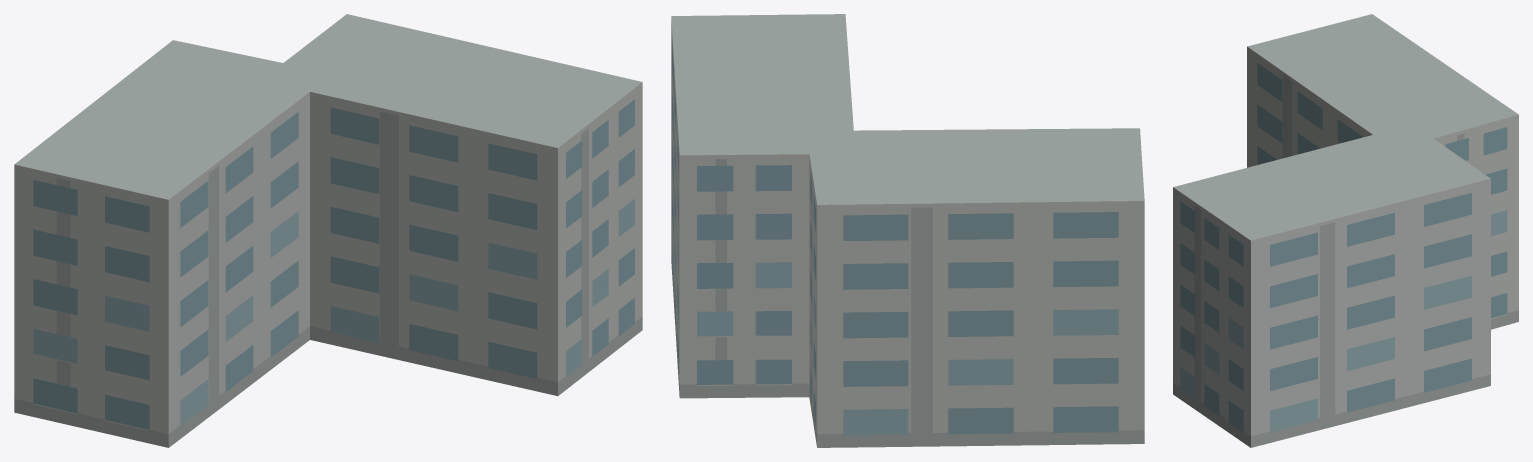
The model's file is survey-upis-32695802.glb.
3 views of the same model, side by side, from view 1: azimuth 30°, elevation 25°; view 2: azimuth 150°, elevation 25°; view 3: azimuth 270°, elevation 25° (orthographic). The views are drawn at different scales.
Parts seen in each view (by area): view 1: survey-upis-32695802.tmp; view 2: survey-upis-32695802.tmp; view 3: survey-upis-32695802.tmp.
Boxes of the visible parts, bbox=[...] form: survey-upis-32695802.tmp: bbox=[14, 14, 642, 447]; survey-upis-32695802.tmp: bbox=[671, 14, 1144, 447]; survey-upis-32695802.tmp: bbox=[1173, 14, 1518, 447].
Bounding box in the file's own units: 35.77 × 15.25 × 23.07.
